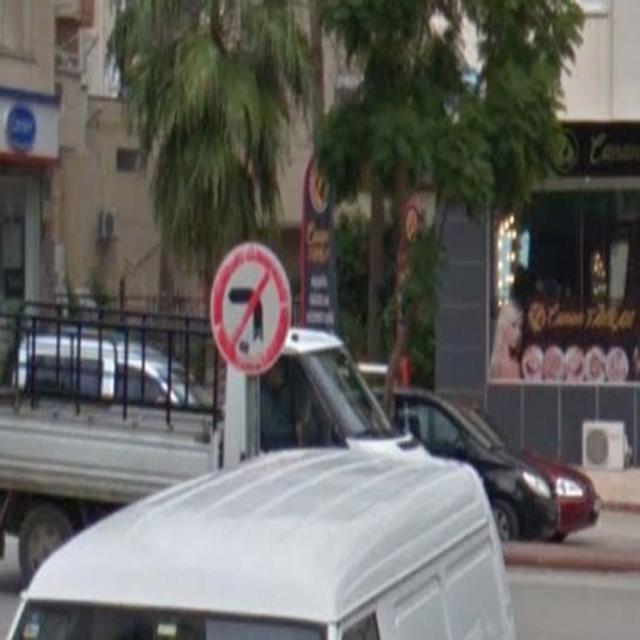soladonulmez: (209, 241, 291, 375)
